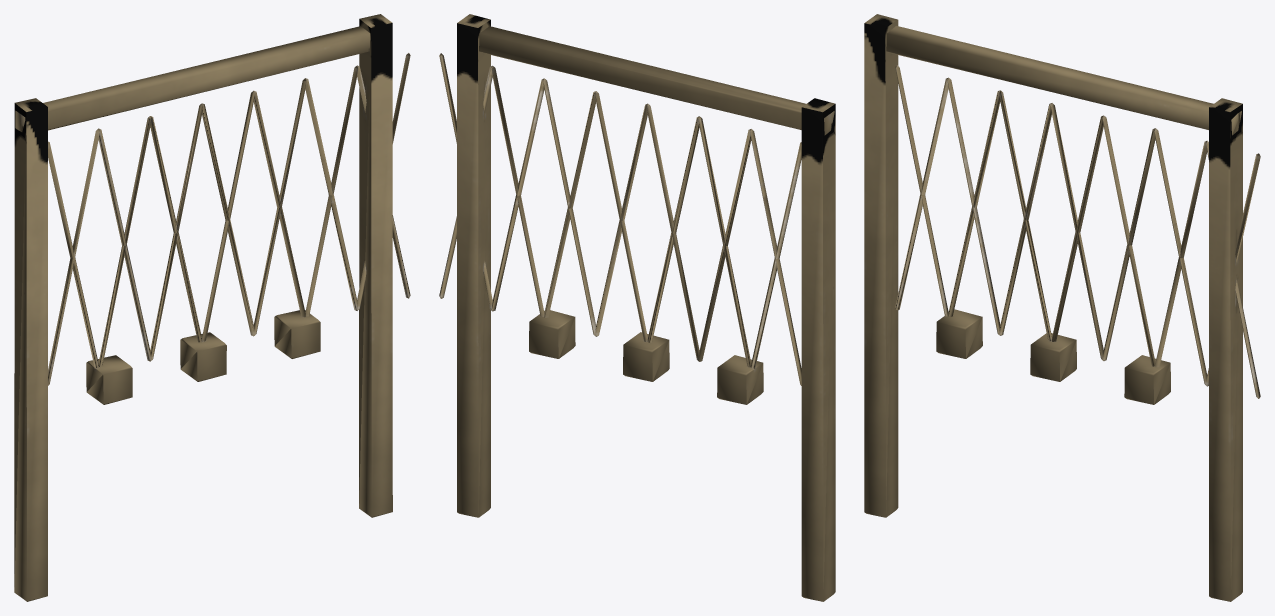
File: Prop_Red.fbx
3 renders of one model, left to right at view 1: azimuth 30°, elevation 25°; view 2: azimuth 150°, elevation 25°; view 3: azimuth 330°, elevation 25°, orthographic.
Visible parts, largest first — view 1: Prop_Red; view 2: Prop_Red; view 3: Prop_Red.
Boxes of the visible parts, left/top/right/bottom form: Prop_Red: left=14, top=14, right=410, bottom=601; Prop_Red: left=439, top=14, right=835, bottom=601; Prop_Red: left=864, top=14, right=1260, bottom=601.
Bounding box in the file's own units: 4.98 × 5.99 × 0.3839.
